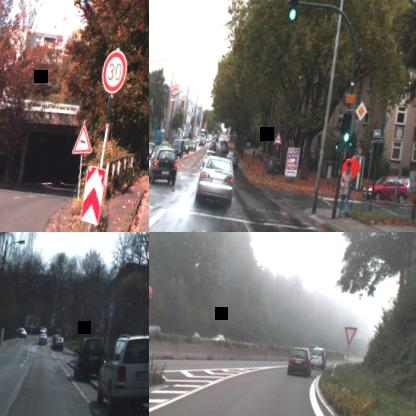CONSTRUCTION: (93, 314, 108, 335)
give way: (341, 324, 358, 346)
priority road: (353, 99, 369, 122)
slippery road: (72, 122, 96, 156), (272, 130, 282, 144)
speed limit 30: (99, 48, 130, 94)
